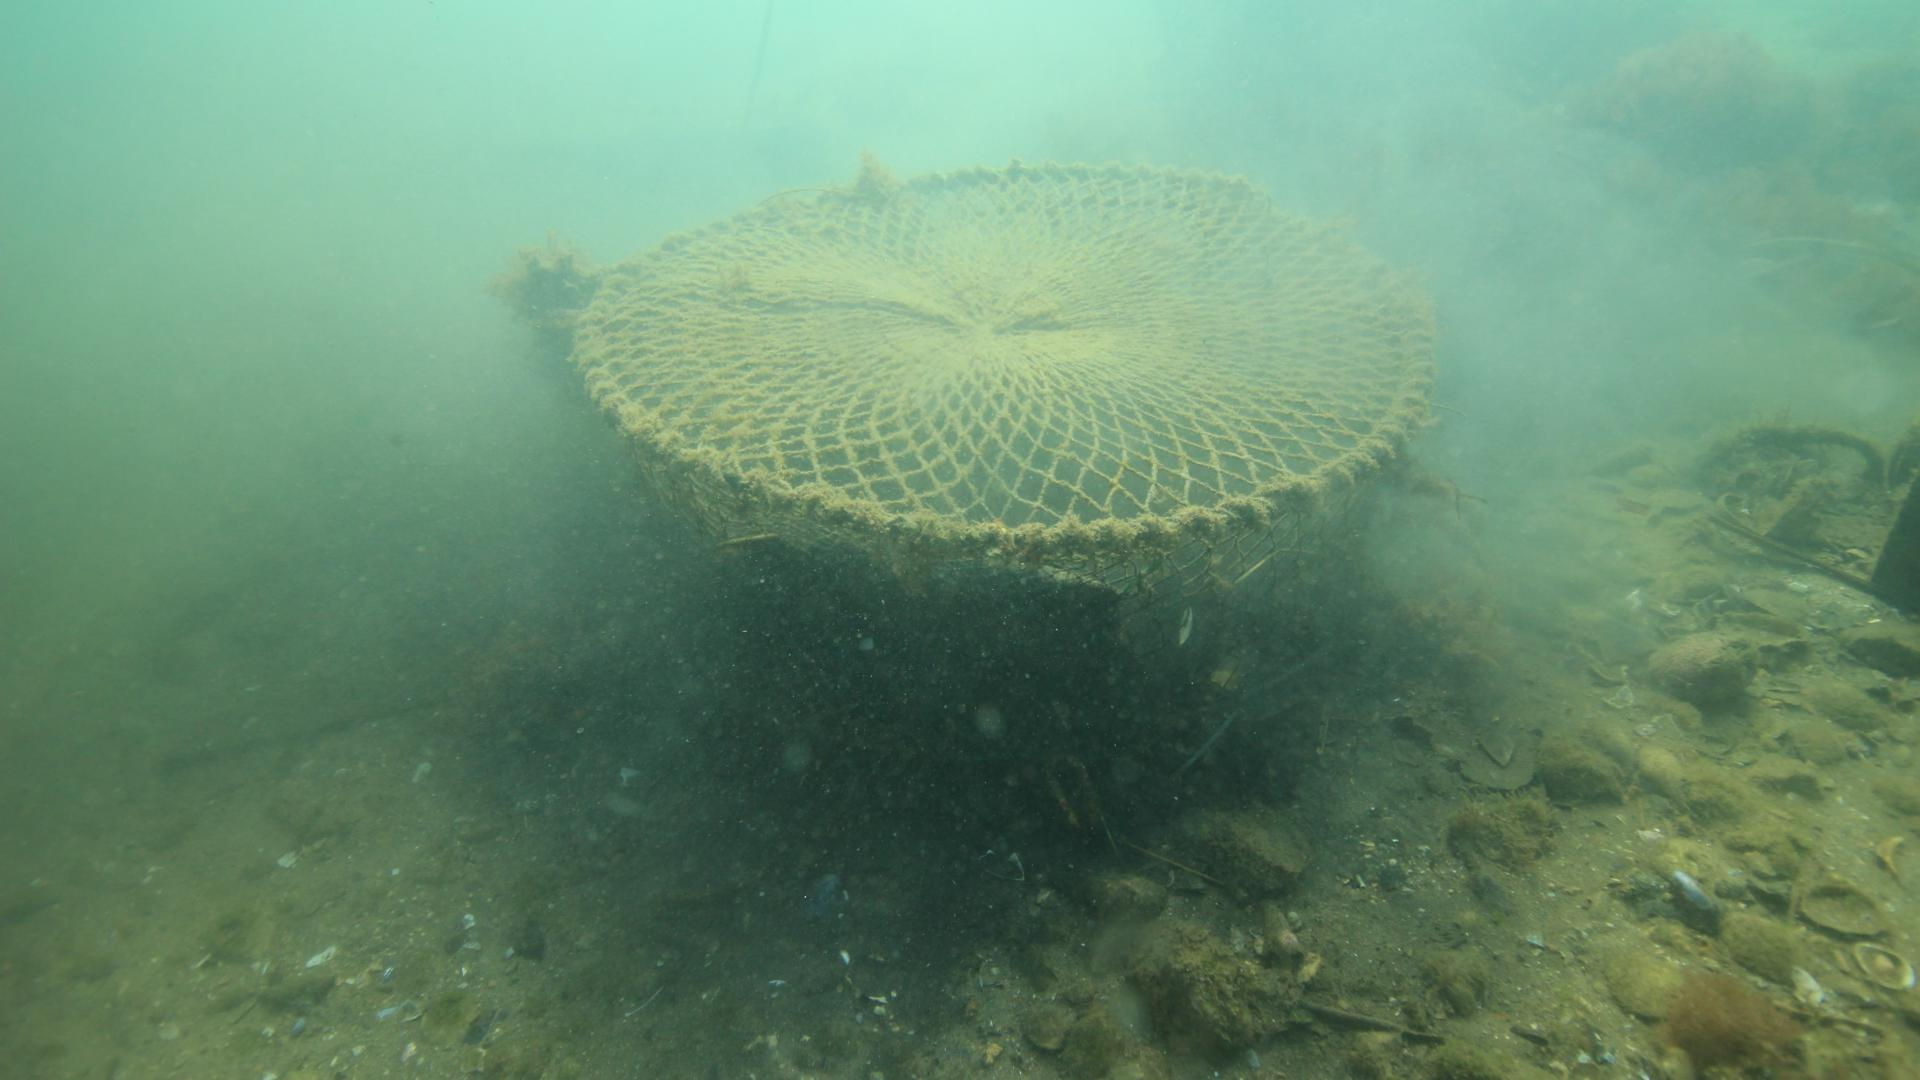circular fish trap: (568, 160, 1436, 758)
